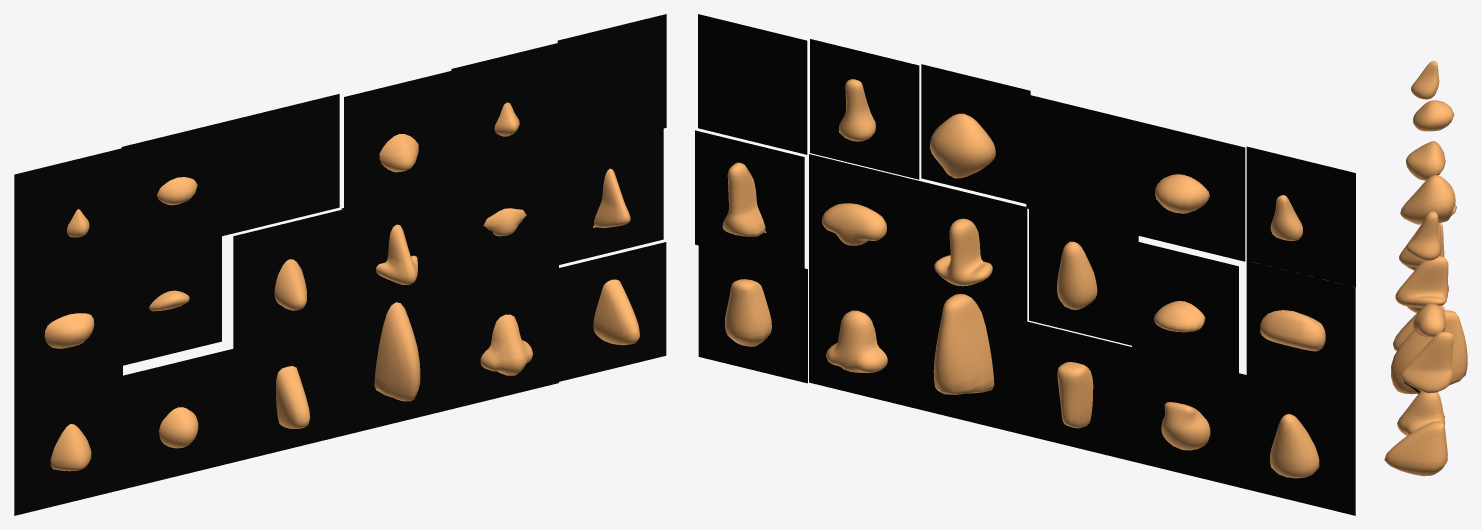
Rendered from Nose.fbx.
3 renders of one model, left to right at view 1: azimuth 30°, elevation 25°; view 2: azimuth 150°, elevation 25°; view 3: azimuth 270°, elevation 25°, orthographic. The views are drawn at different scales.
Parts seen in each view (by area): view 1: nose1.002, nose3, nose9.002, nose16.002, nose17.002, nose4.002, nose13.002, nose14.002, nose7.002, nose2.002, nose5.003, nose18.002 (+6 smaller); view 2: nose16.002, nose2.002, nose1.002, nose11.002, nose13.002, nose3, nose6, nose17.002, nose5.003, nose12, nose7.002, nose15.002 (+6 smaller); view 3: nose18.002, nose12, nose16.002, nose10.002, nose4.002, nose17.002, nose7.002, nose5.003, nose2.002, nose11.002, nose1.002, nose9.002 (+2 smaller).
Boxes of the visible parts, box(x1,y1,x2,y2) form: nose1.002: box(14, 148, 123, 288); nose3: box(230, 94, 339, 233); nose9.002: box(233, 210, 342, 349); nose16.002: box(341, 296, 449, 436); nose17.002: box(450, 269, 558, 409); nose4.002: box(344, 70, 452, 210); nose13.002: box(14, 375, 122, 515); nose14.002: box(123, 349, 231, 489); nose7.002: box(14, 262, 122, 401); nose2.002: box(121, 120, 230, 260); nose5.003: box(451, 42, 560, 182); nose18.002: box(559, 242, 666, 381); nose16.002: box(918, 294, 1027, 435); nose2.002: box(1135, 121, 1245, 261); nose1.002: box(1246, 146, 1355, 287); nose11.002: box(809, 154, 918, 294); nose13.002: box(1246, 375, 1355, 515); nose3: box(1026, 94, 1135, 234); nose6: box(698, 14, 807, 154); nose17.002: box(809, 268, 918, 408); nose5.003: box(810, 39, 919, 179); nose12: box(695, 130, 804, 271); nose7.002: box(1246, 261, 1355, 401); nose15.002: box(1027, 322, 1136, 462); nose18.002: box(1384, 421, 1447, 476); nose12: box(1400, 331, 1453, 393); nose16.002: box(1390, 310, 1467, 394); nose10.002: box(1395, 256, 1448, 307); nose4.002: box(1400, 175, 1455, 224); nose17.002: box(1397, 391, 1444, 435); nose7.002: box(1406, 141, 1445, 180); nose5.003: box(1406, 211, 1440, 261); nose2.002: box(1413, 100, 1454, 131); nose11.002: box(1413, 304, 1445, 337); nose1.002: box(1411, 61, 1439, 99); nose9.002: box(1399, 223, 1441, 267).
Bounding box in the file's own units: 87.2 × 43.53 × 12.69.
